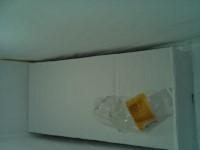bottle: (87, 0, 176, 28)
